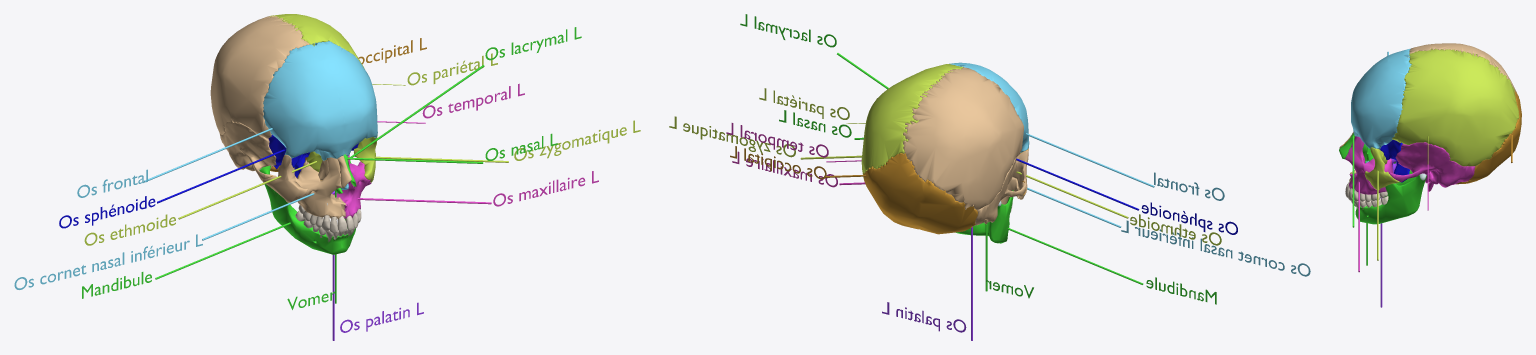
File: headAnatomy.glb
3 renders of one model, left to right at view 1: azimuth 30°, elevation 25°; view 2: azimuth 150°, elevation 25°; view 3: azimuth 270°, elevation 25°, orthographic. The views are drawn at different scales.
Parts seen in each view (by area): view 1: Frontal_bone_Generated_Mesh_From_X3D.633, Parietal_bone.r_Generated_Mesh_From_X3D.642, Maxilla.r_Generated_Mesh_From_X3D.650, Mandible_Generated_Mesh_From_X3D.639, Temporal_bone.r_Generated_Mesh_From_X3D.636, Left_parietal_bone_Generated_Mesh_From_X3D.643, Zygomatic_bone.r_Generated_Mesh_From_X3D.644, Maxilla.l_Generated_Mesh_From_X3D.650, Text.004, Text.010, Zygomatic_bone.l_Generated_Mesh_From_X3D.644, Sphenoid_bone.l_Generated_Mesh_From_X3D.635 (+5 smaller); view 2: Parietal_bone.r_Generated_Mesh_From_X3D.642, Occipital_bone_Generated_Mesh_From_X3D.634, Left_parietal_bone_Generated_Mesh_From_X3D.643, Frontal_bone_Generated_Mesh_From_X3D.633, Mandible_Generated_Mesh_From_X3D.639, Text.004, Temporal_bone.r_Generated_Mesh_From_X3D.636, Text.010, Text.001, Text.011, Text.009, Text.002; view 3: Left_parietal_bone_Generated_Mesh_From_X3D.643, Frontal_bone_Generated_Mesh_From_X3D.633, Temporal_bone.l_Generated_Mesh_From_X3D.636, Mandible_Generated_Mesh_From_X3D.639, Maxilla.l_Generated_Mesh_From_X3D.650, Occipital_bone_Generated_Mesh_From_X3D.634, Parietal_bone.r_Generated_Mesh_From_X3D.642, Zygomatic_bone.l_Generated_Mesh_From_X3D.644, Sphenoid_bone.l_Generated_Mesh_From_X3D.635, Cylinder.010, Cylinder.011, Cylinder.005 (+2 smaller).
Part boxes in pixels (x1,y1,x2,y2): Frontal_bone_Generated_Mesh_From_X3D.633: (263,41,377,160); Parietal_bone.r_Generated_Mesh_From_X3D.642: (210,15,309,138); Maxilla.r_Generated_Mesh_From_X3D.650: (295,157,346,219); Mandible_Generated_Mesh_From_X3D.639: (259,160,355,254); Temporal_bone.r_Generated_Mesh_From_X3D.636: (219,121,276,180); Left_parietal_bone_Generated_Mesh_From_X3D.643: (269,14,364,68); Zygomatic_bone.r_Generated_Mesh_From_X3D.644: (262,155,307,202); Maxilla.l_Generated_Mesh_From_X3D.650: (333,154,371,218); Text.004: (14,234,202,289); Text.010: (514,120,640,160); Zygomatic_bone.l_Generated_Mesh_From_X3D.644: (354,135,377,182); Sphenoid_bone.l_Generated_Mesh_From_X3D.635: (268,135,358,177); Parietal_bone.r_Generated_Mesh_From_X3D.642: (903,67,1023,209); Occipital_bone_Generated_Mesh_From_X3D.634: (863,153,977,234); Left_parietal_bone_Generated_Mesh_From_X3D.643: (861,64,962,177); Frontal_bone_Generated_Mesh_From_X3D.633: (949,62,1029,152); Mandible_Generated_Mesh_From_X3D.639: (956,190,1013,243); Text.004: (1121,220,1310,276); Temporal_bone.r_Generated_Mesh_From_X3D.636: (972,157,1026,226); Text.010: (669,116,795,157); Text.001: (1141,202,1237,234); Text.011: (726,123,828,157); Text.009: (740,14,836,47); Text.002: (1130,214,1221,245); Left_parietal_bone_Generated_Mesh_From_X3D.643: (1392,48,1519,166); Frontal_bone_Generated_Mesh_From_X3D.633: (1351,48,1411,148); Temporal_bone.l_Generated_Mesh_From_X3D.636: (1389,142,1475,191); Mandible_Generated_Mesh_From_X3D.639: (1355,170,1426,224); Maxilla.l_Generated_Mesh_From_X3D.650: (1345,136,1392,194); Occipital_bone_Generated_Mesh_From_X3D.634: (1456,91,1521,184); Parietal_bone.r_Generated_Mesh_From_X3D.642: (1408,43,1518,96); Zygomatic_bone.l_Generated_Mesh_From_X3D.644: (1365,147,1399,189); Sphenoid_bone.l_Generated_Mesh_From_X3D.635: (1379,139,1409,182); Cylinder.010: (1352,135,1354,227); Cylinder.011: (1380,197,1382,307); Cylinder.005: (1358,181,1359,272).
Size of the model in its own units: 0.7102 by 0.3135 by 0.2036.
